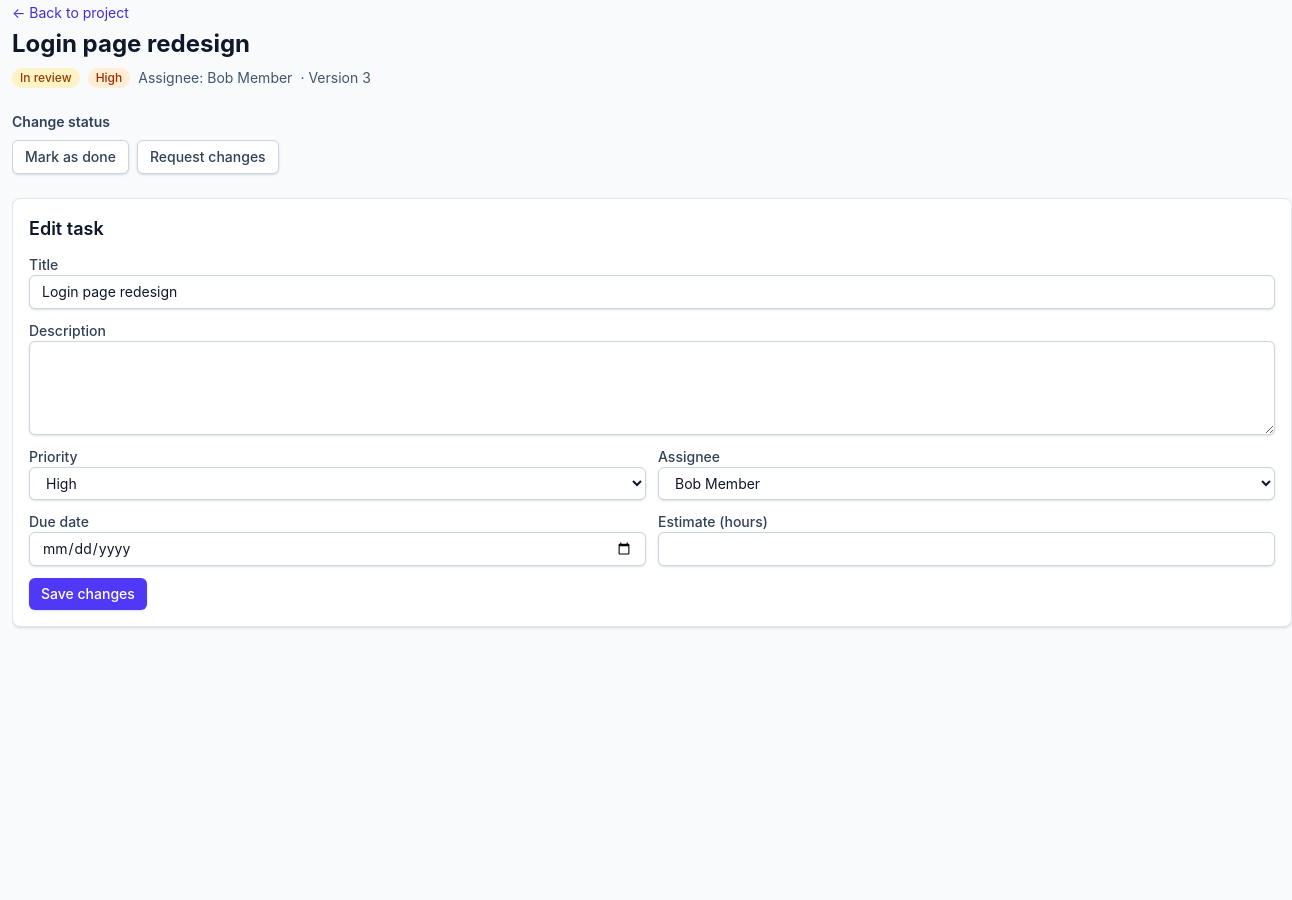
Test case: TaskDetail › saves only the changed fields together with the version
The image size is (1292, 900).
Replace the text in the field labelled "Title" with "Login page v2": (652, 292) [29,275,1275,309]
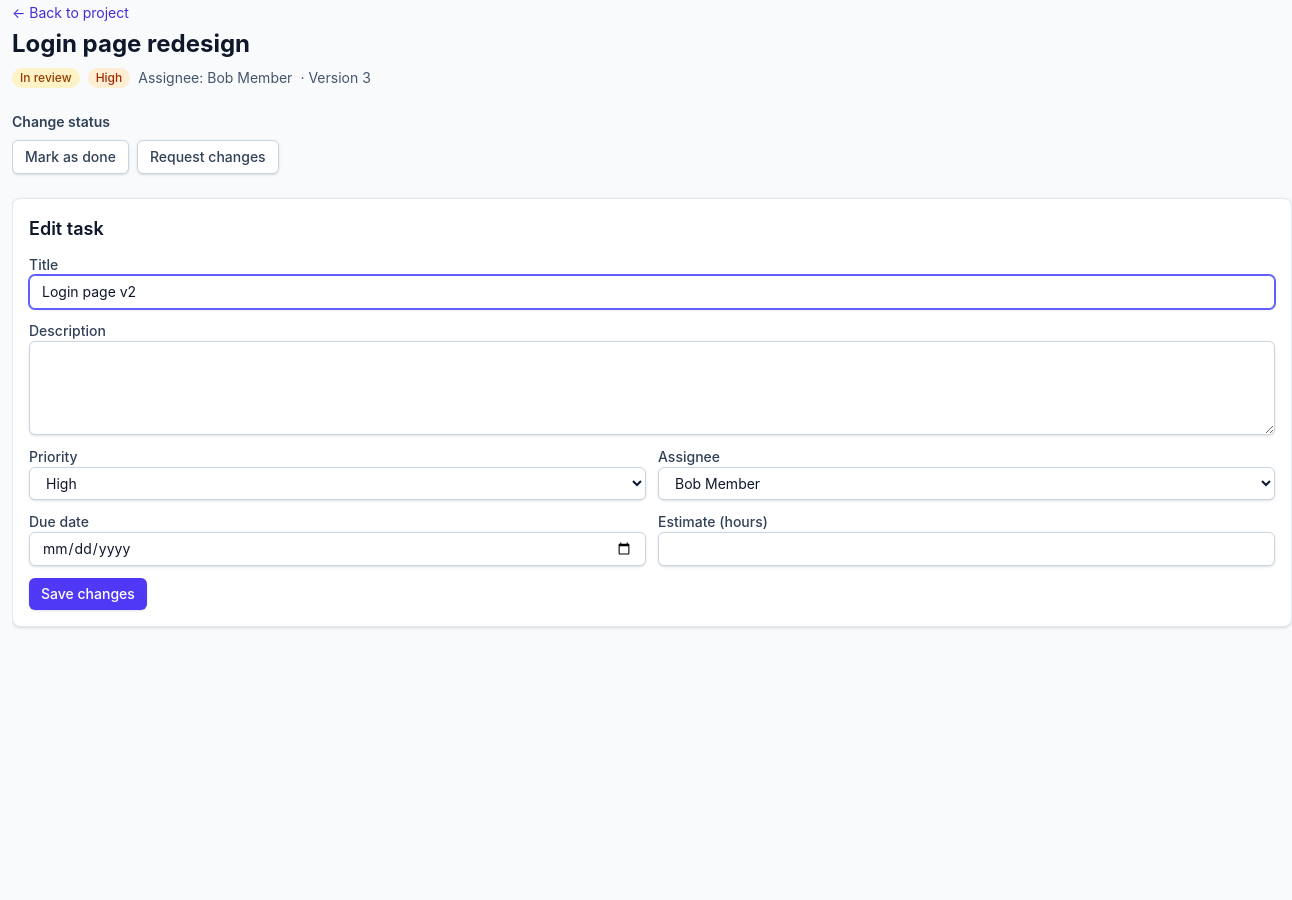
Click the button "Save changes": (88, 594) [29,578,147,610]
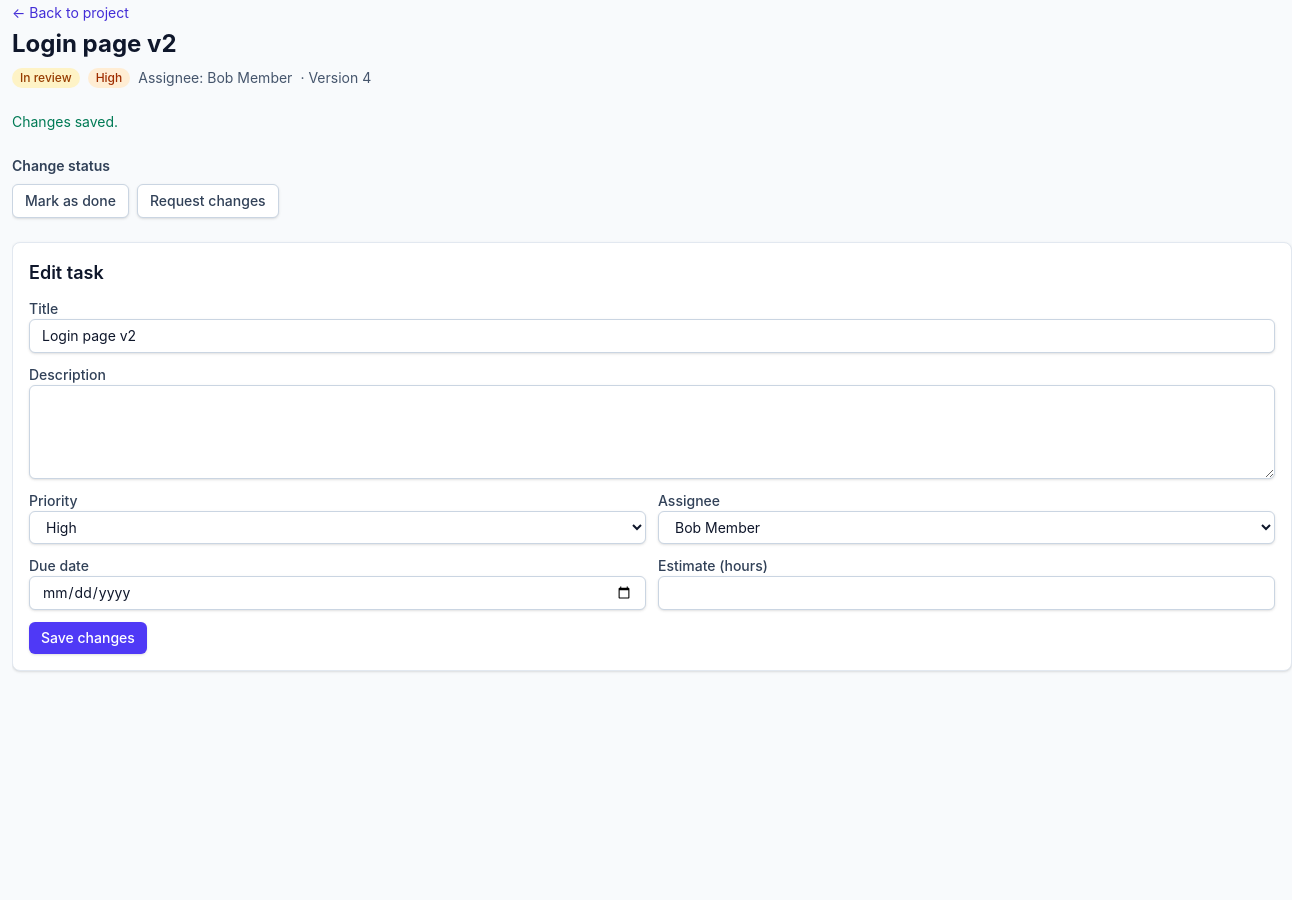
Expected: the text "Changes saved." is shown, [12,113,118,130]
